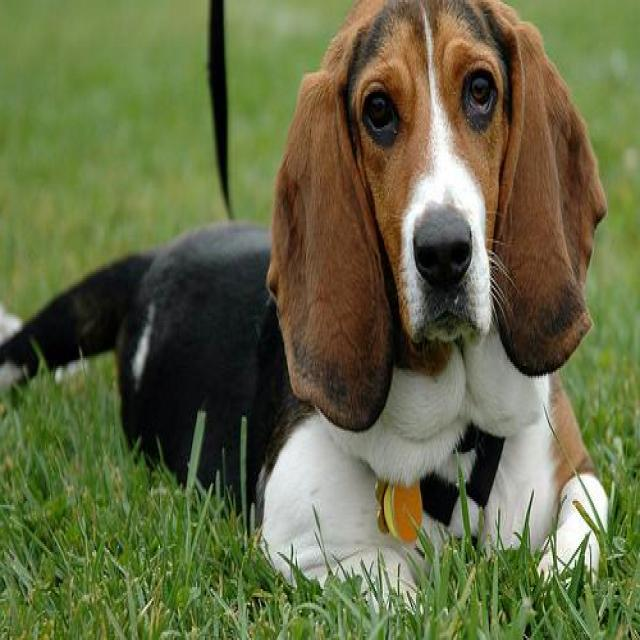basset: (2, 0, 640, 626)
